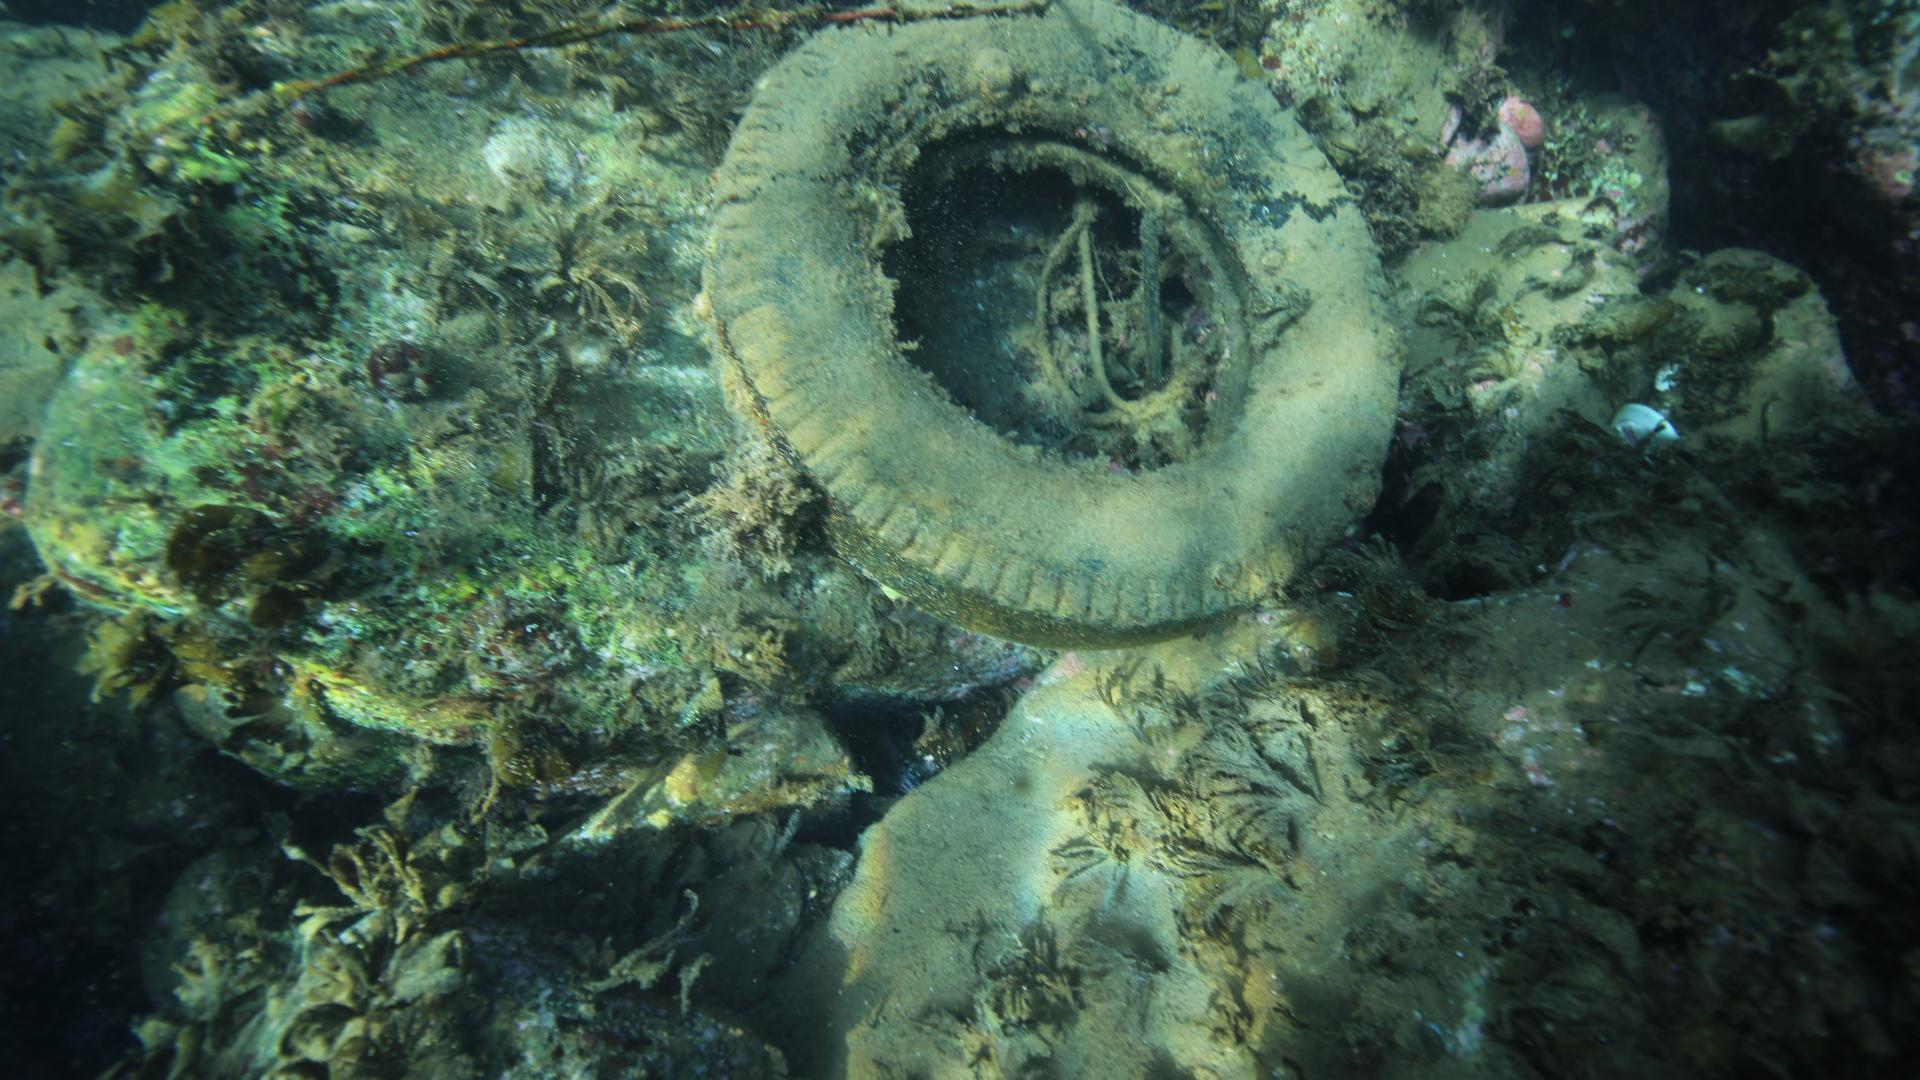tire: (694, 0, 1404, 640)
